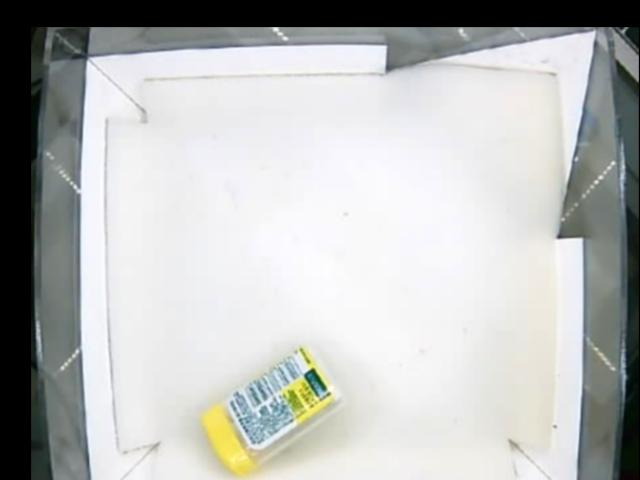Bottle: (202, 339, 345, 480)
